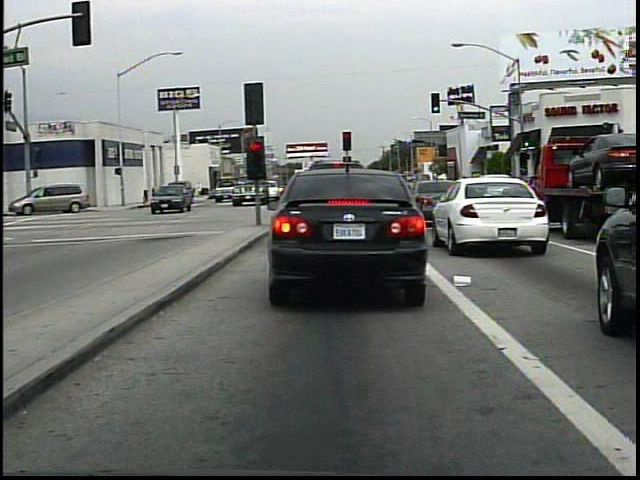person: (195, 179, 205, 202)
